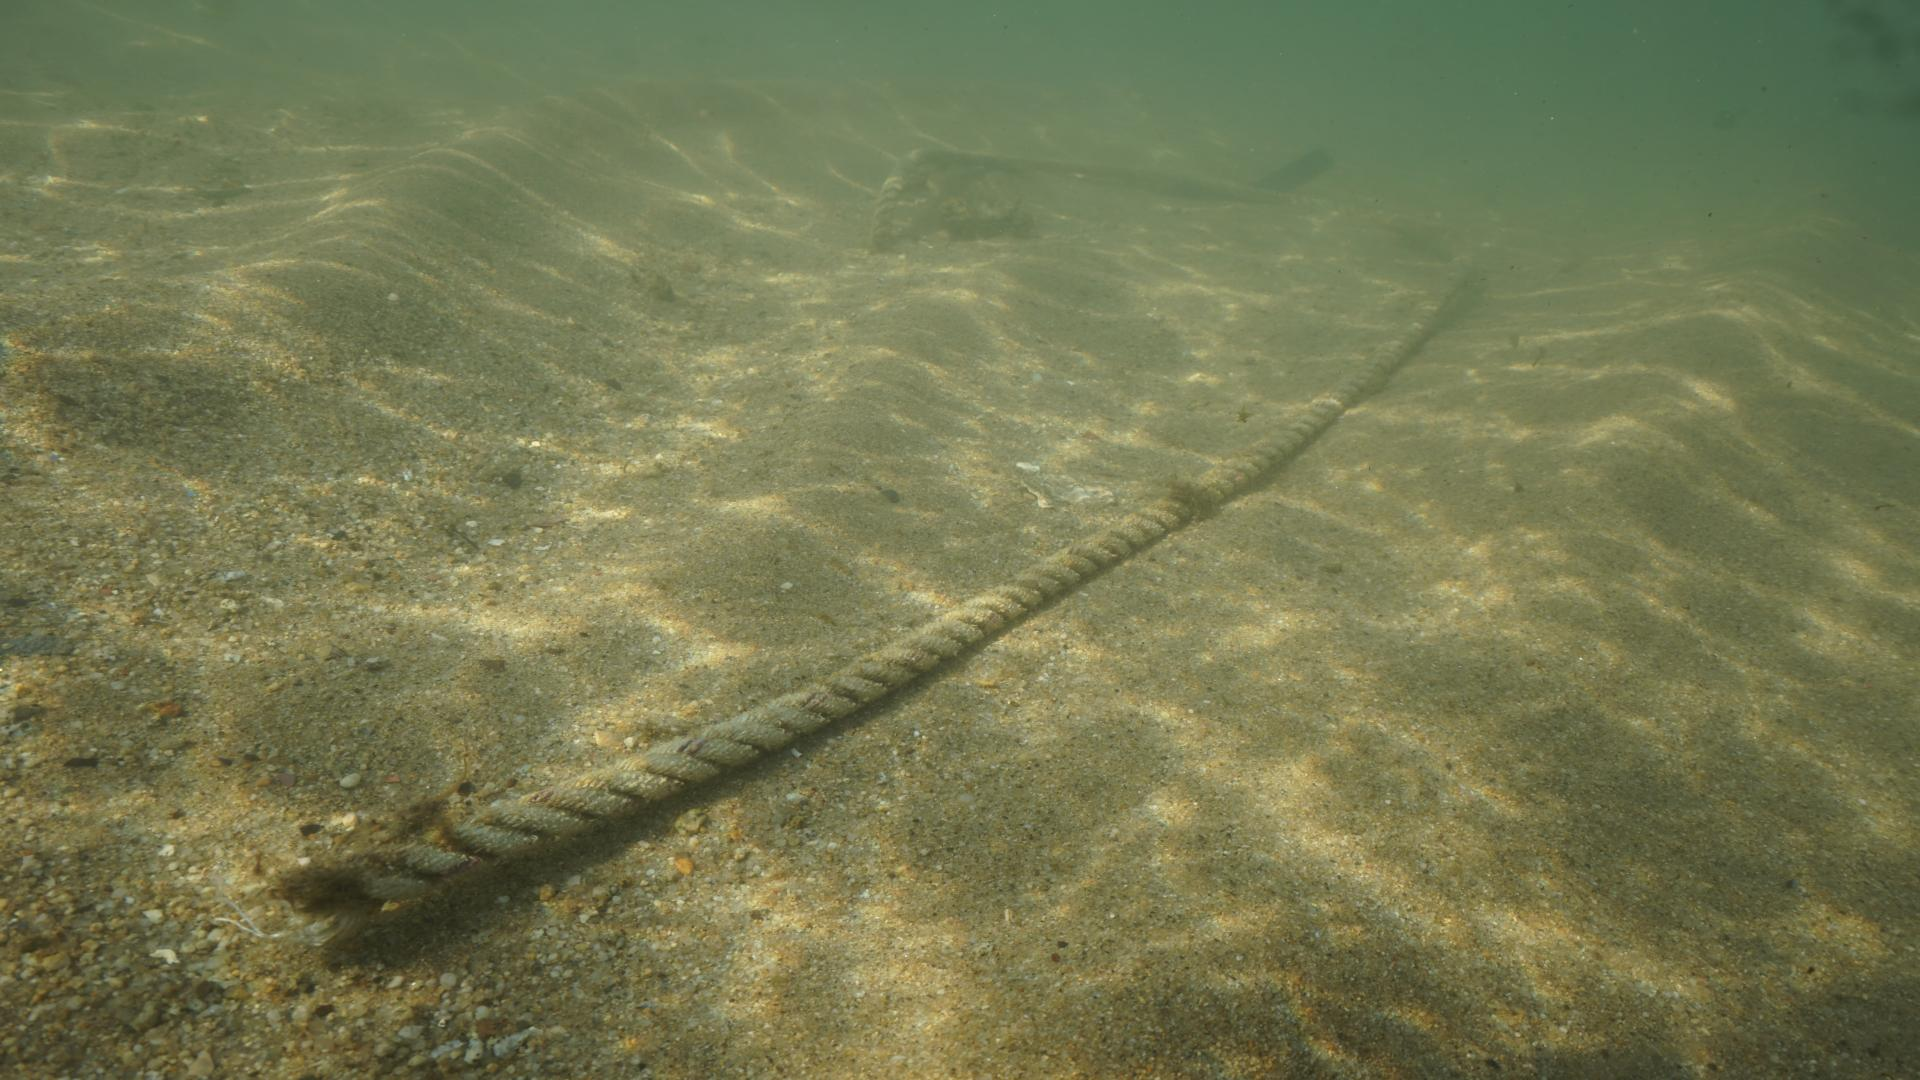rope: (407, 141, 1524, 895)
